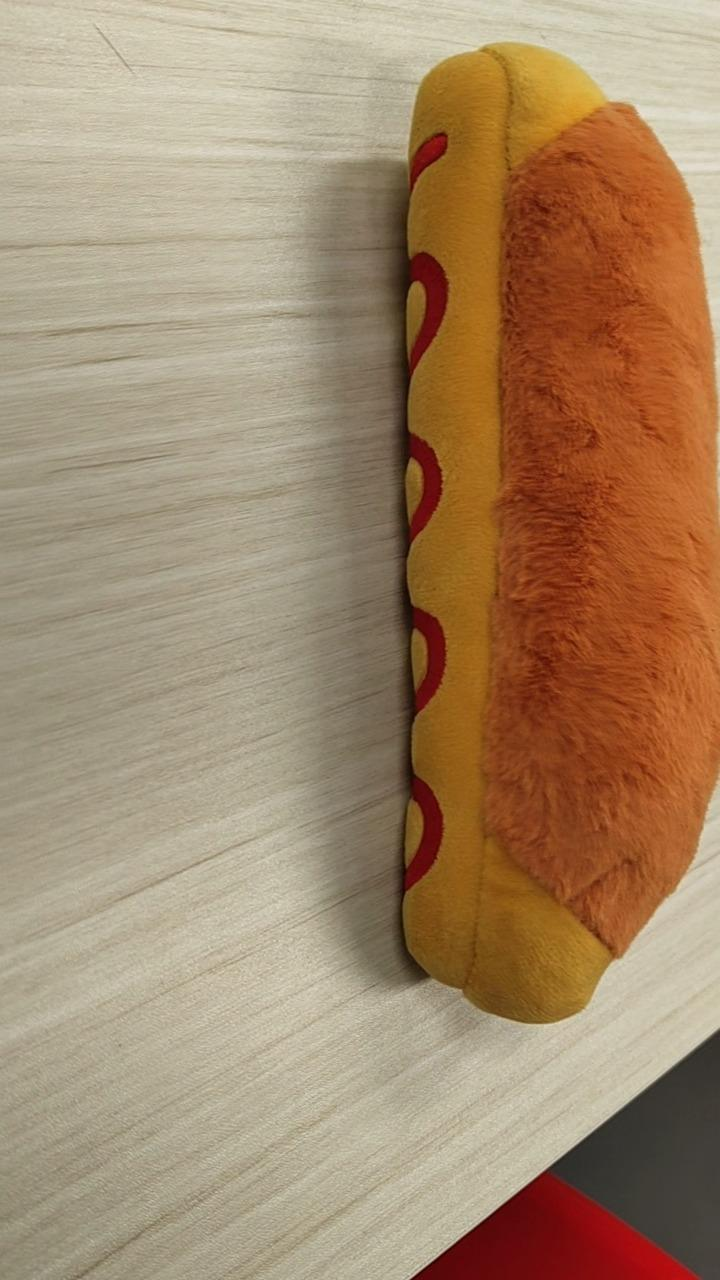hotdog: (397, 40, 718, 1024)
